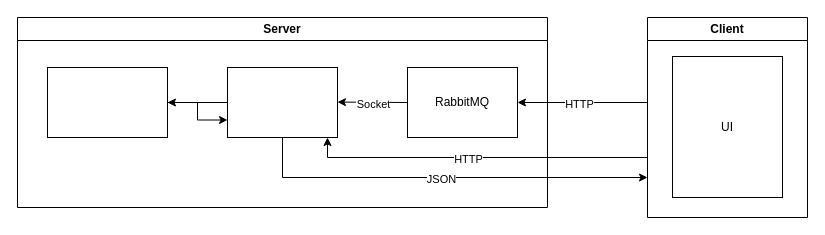
This 825x235 diagram has some shape labels left out. The centre of each missing label's shape, as x and y in pixels:
"DBS" goes at point (107, 102).
"REST API" goes at point (282, 102).
